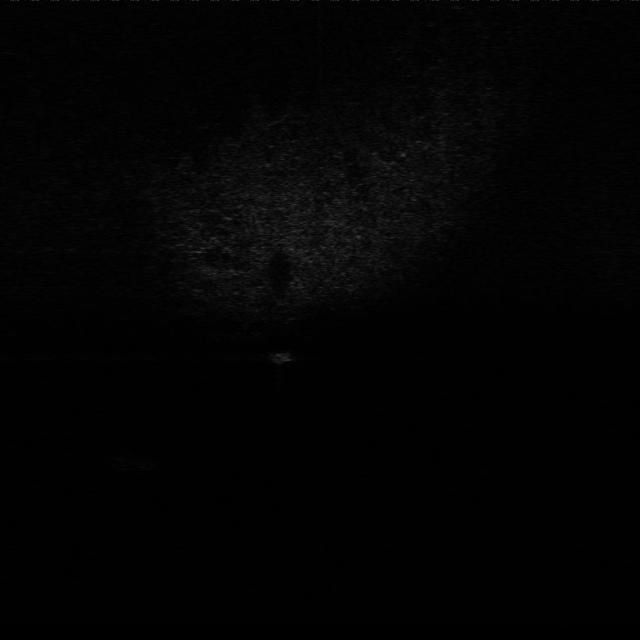cube: (267, 343, 299, 366)
